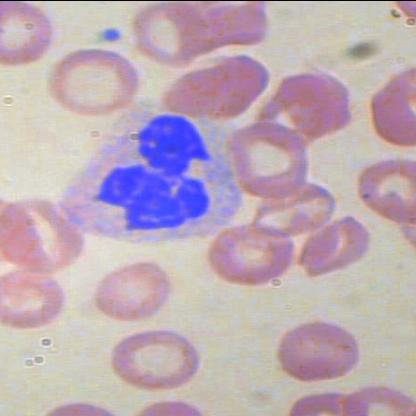Platelets: (95, 21, 130, 43)
RBC: (45, 46, 150, 120), (228, 115, 313, 200), (0, 196, 90, 274), (202, 218, 302, 288), (272, 320, 378, 386), (84, 258, 190, 324), (105, 328, 211, 393), (296, 212, 376, 284), (131, 1, 215, 66), (1, 265, 75, 332), (352, 152, 415, 227)
WBC: (57, 102, 240, 257)
